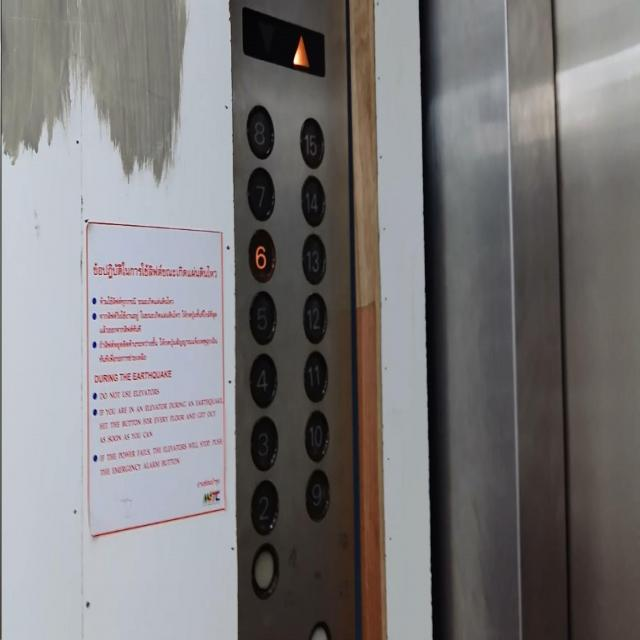10: (304, 409, 329, 461)
11: (302, 348, 328, 402)
12: (301, 289, 327, 345)
13: (300, 229, 326, 284)
14: (299, 172, 326, 228)
15: (298, 114, 326, 168)
2: (251, 476, 278, 532)
3: (250, 414, 278, 472)
4: (250, 352, 276, 407)
5: (249, 290, 276, 342)
6: (247, 228, 276, 282)
7: (247, 166, 275, 221)
8: (246, 104, 274, 158)
9: (304, 467, 329, 521)
empty: (249, 540, 279, 600)
led: (242, 6, 326, 77)
